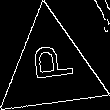P_W: (26, 47, 77, 90)
